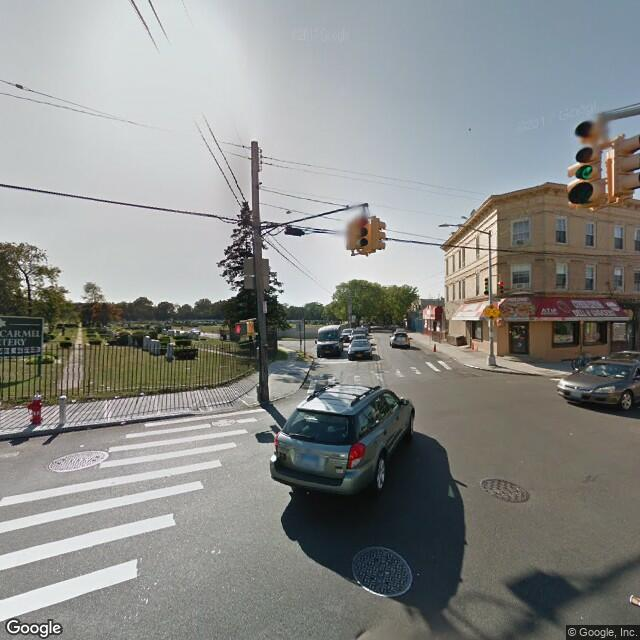litter: (620, 583, 640, 612), (109, 391, 136, 411), (67, 439, 101, 451)
